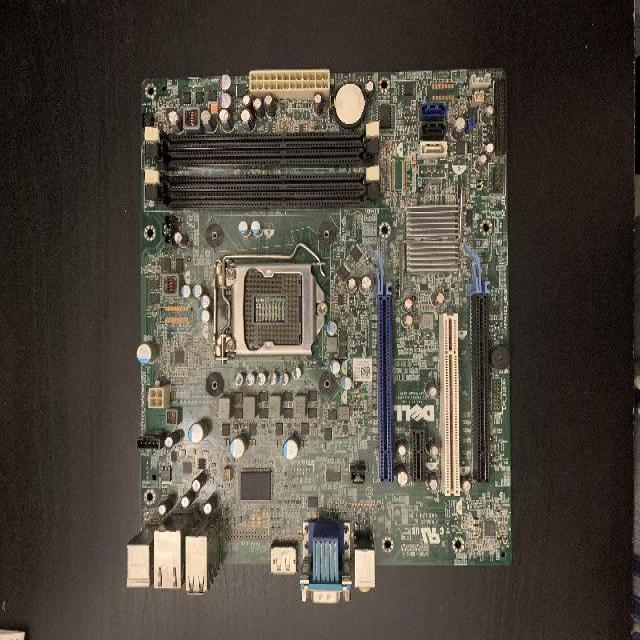Mainboard: (128, 68, 513, 601)
